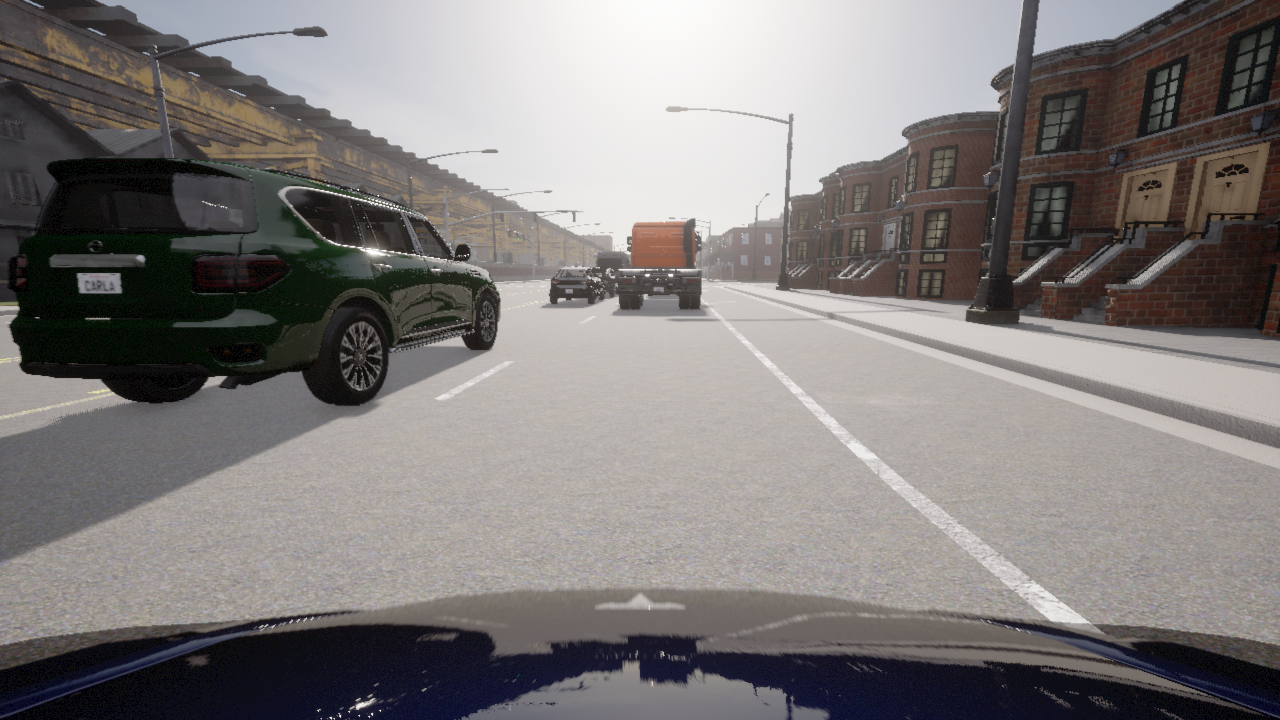cyclist: (0, 588, 1279, 719), (8, 158, 500, 405), (617, 218, 701, 308), (549, 267, 604, 304), (595, 251, 630, 276), (591, 267, 617, 296), (648, 295, 651, 296)
